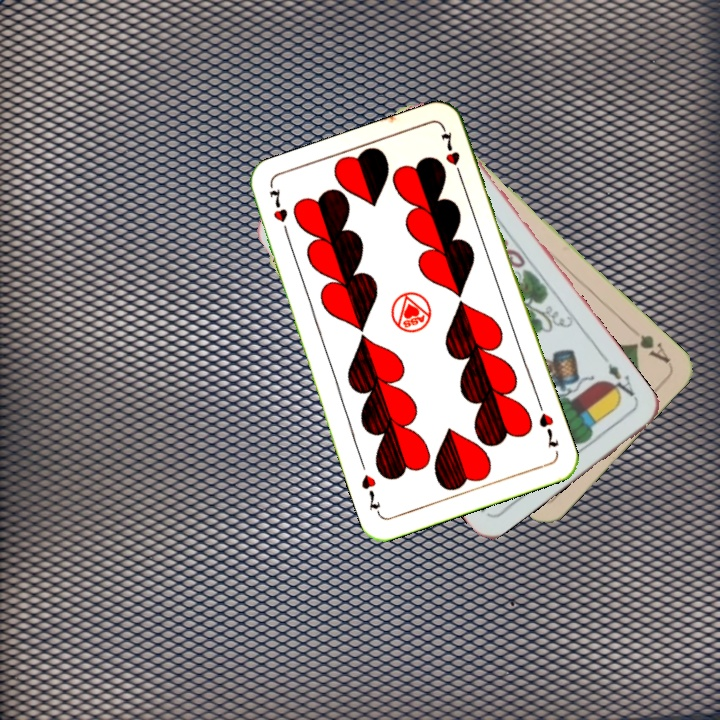EA: (603, 359, 640, 404)
GA: (626, 330, 673, 367)
H7: (265, 185, 292, 241), (534, 398, 561, 451)
